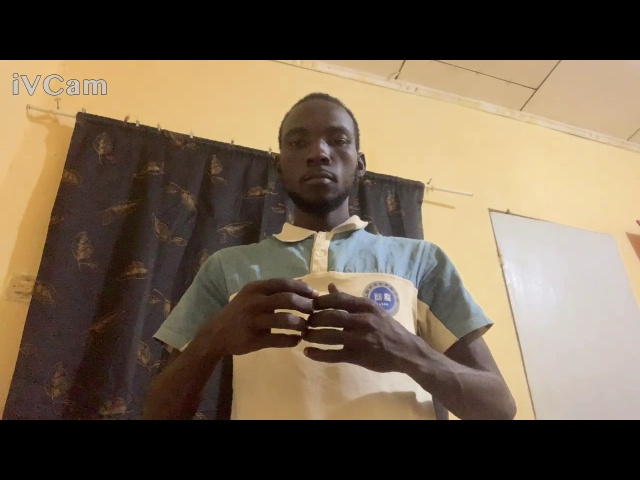comment: (195, 272, 440, 382)
